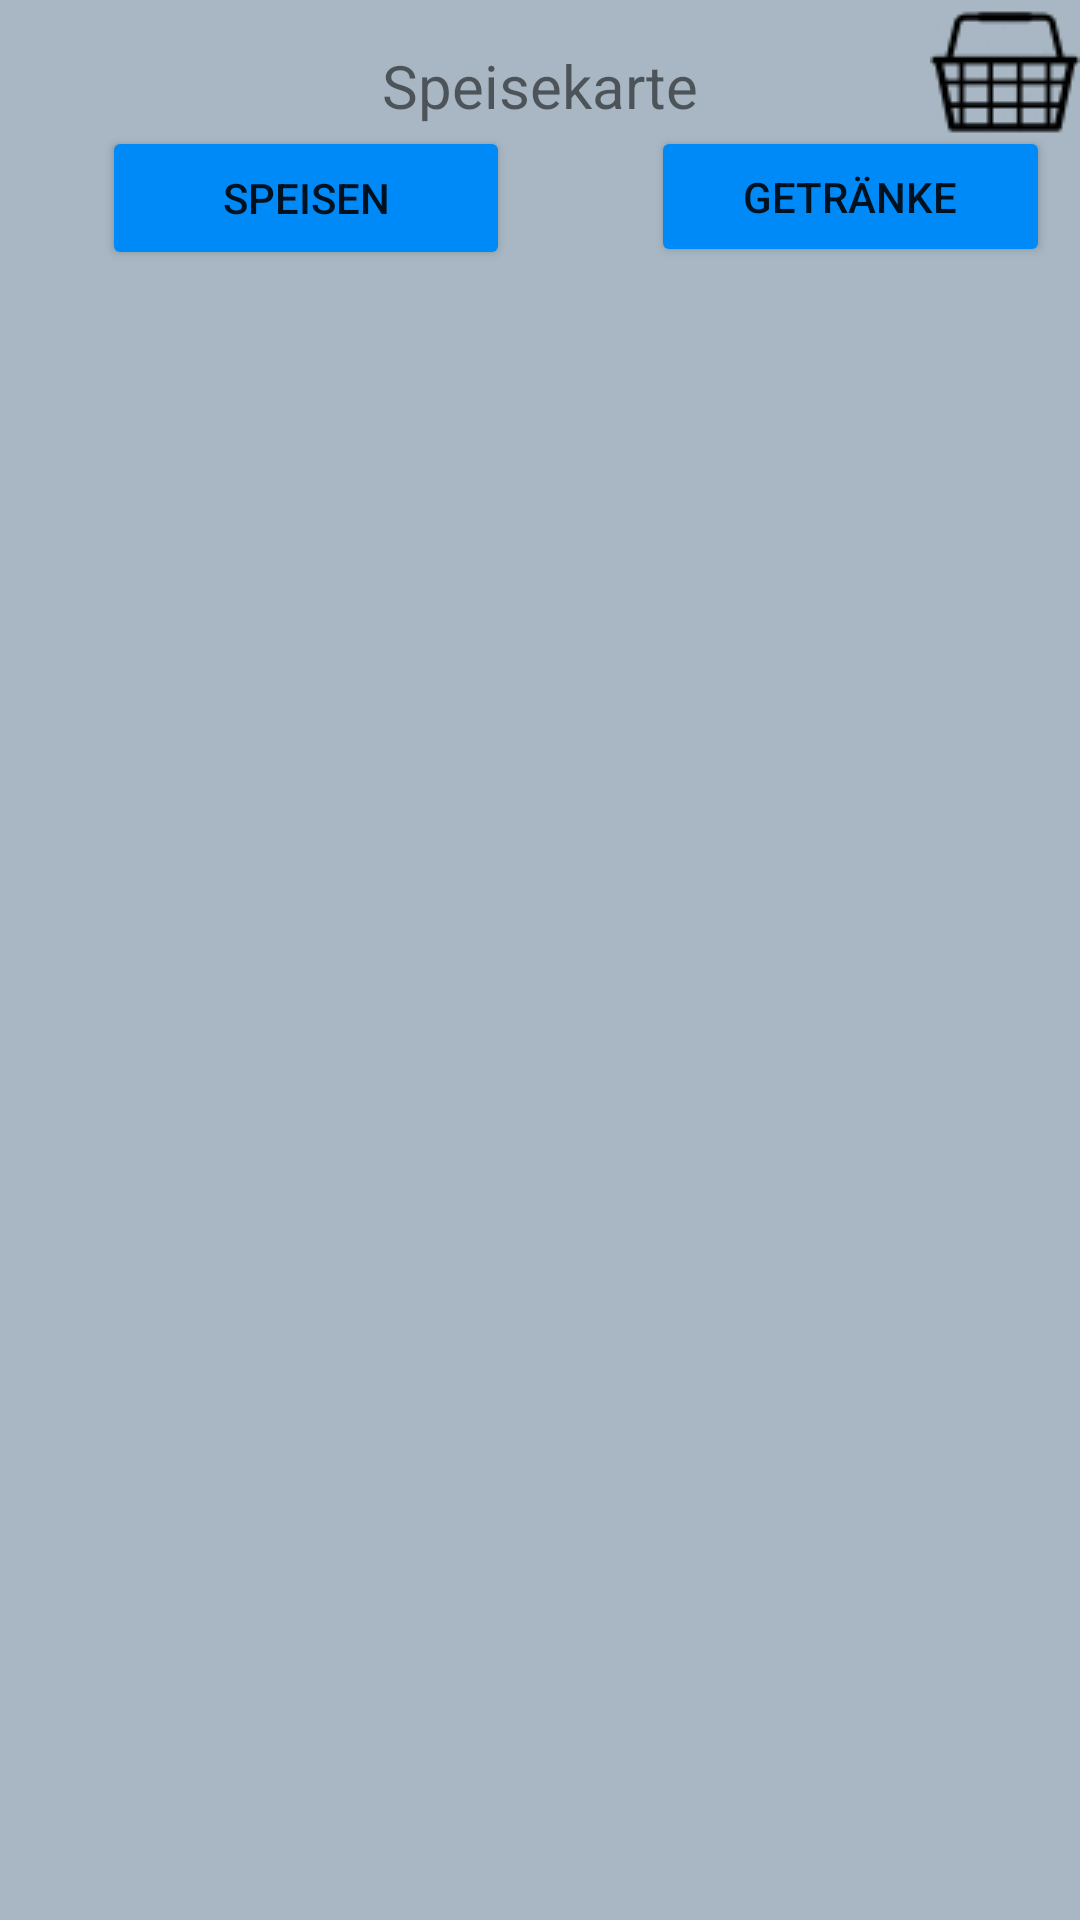

Locate icon controls on the screen. Image size 1080*1920, boxes as bbox(x1, y1, x2, y2).
shoppingcart: bbox(930, 11, 1080, 133)
